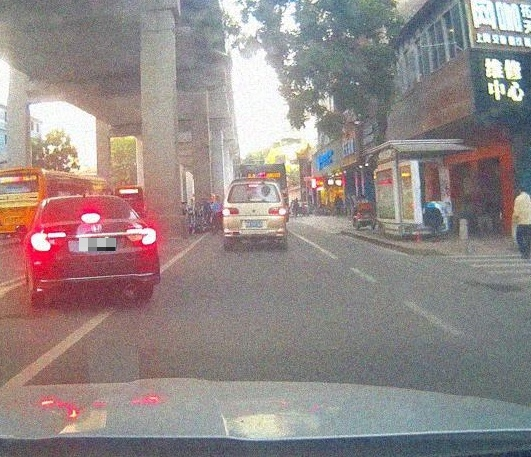L_light: (31, 231, 66, 252), (222, 207, 240, 215)
R_light: (127, 228, 157, 245), (268, 206, 286, 215)
T_light: (81, 213, 100, 223), (249, 184, 258, 187)
day-brake: (222, 177, 287, 251)
day-left: (29, 195, 160, 308)
plate_1: (79, 238, 116, 251)
